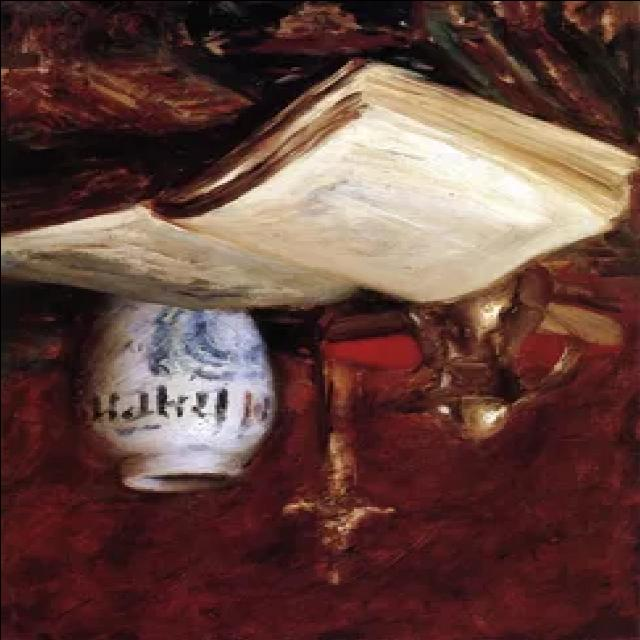book: (0, 56, 633, 342)
